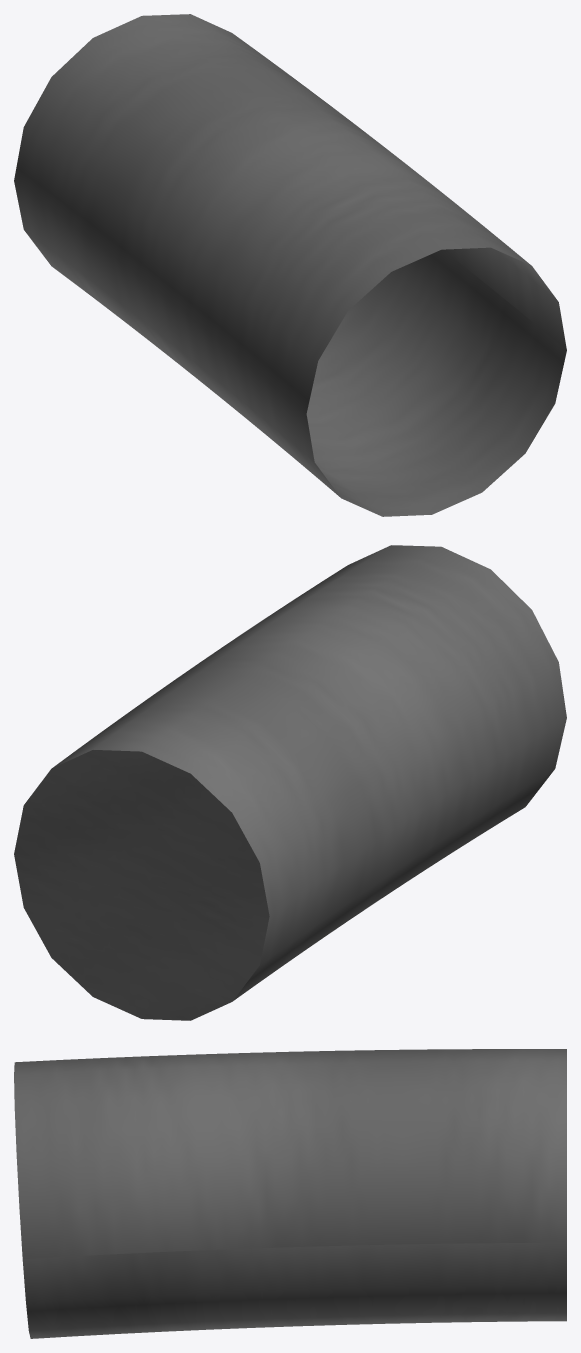
Rendered from mastarmcurve_8x2_c9.obj.
3 views of the same model, one above another, from view 1: azimuth 30°, elevation 25°; view 2: azimuth 150°, elevation 25°; view 3: azimuth 270°, elevation 25° (orthographic). The views are drawn at different scales.
Visible parts, largest first — view 1: mastarm_8x2_c9; view 2: mastarm_8x2_c9; view 3: mastarm_8x2_c9.
Boxes of the visible parts, x1,y1,x2,y2 form: mastarm_8x2_c9: [14, 14, 566, 516]; mastarm_8x2_c9: [14, 545, 566, 1020]; mastarm_8x2_c9: [14, 1049, 566, 1338].
Size of the model in its own units: 0.5094 by 0.5356 by 1.02.
